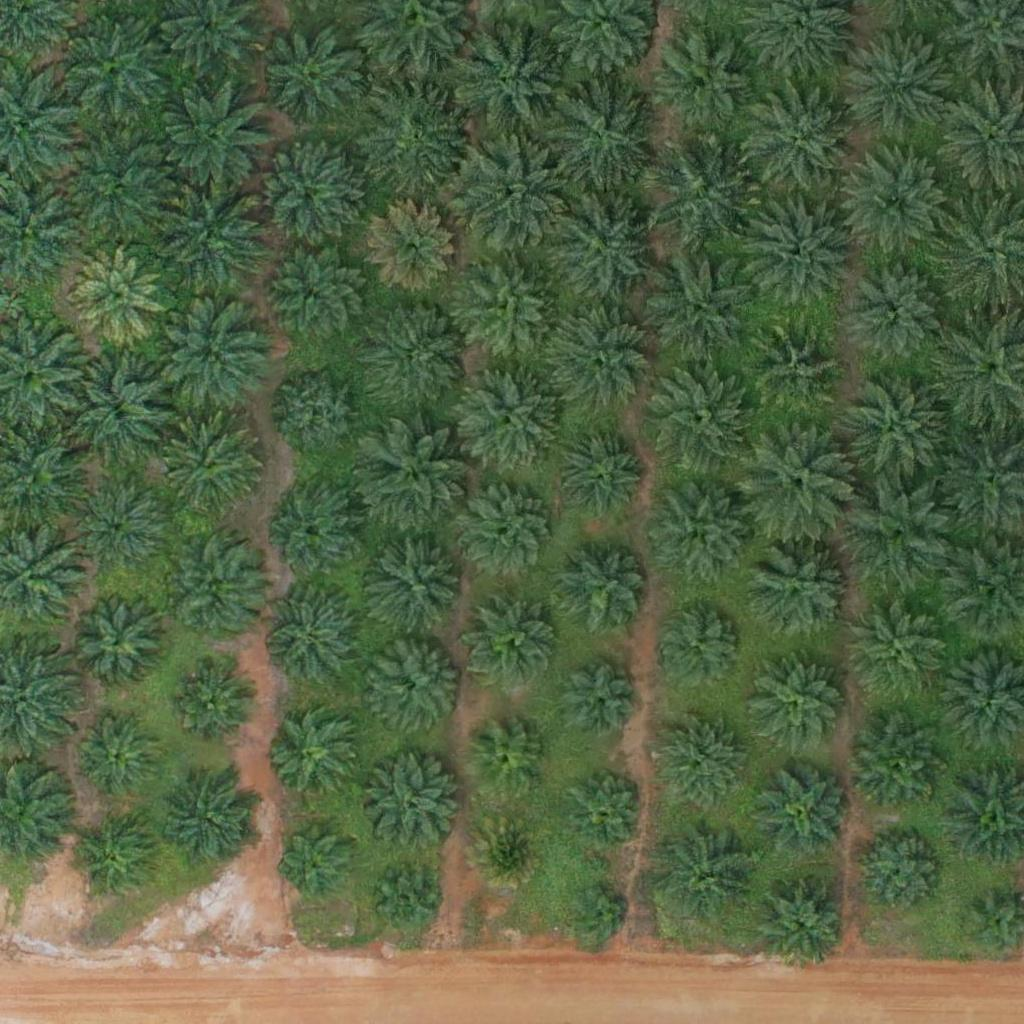Kelapa_Sawit: (59, 9, 172, 123), (65, 135, 178, 249), (157, 80, 270, 194), (845, 28, 958, 142), (154, 303, 267, 417), (452, 28, 565, 141), (455, 138, 568, 251), (748, 88, 861, 201), (841, 147, 954, 260), (838, 368, 951, 481), (547, 191, 660, 304), (155, 178, 268, 291), (63, 352, 175, 466), (361, 83, 473, 196), (543, 77, 655, 190), (644, 137, 756, 250), (844, 475, 956, 588), (742, 424, 854, 537), (641, 363, 753, 476), (741, 191, 853, 304), (645, 250, 757, 363), (363, 426, 475, 539), (259, 26, 359, 127), (656, 30, 756, 131), (851, 597, 951, 698), (850, 714, 950, 815), (749, 539, 849, 640), (748, 655, 848, 756), (652, 483, 752, 584), (549, 305, 649, 406), (460, 256, 560, 357), (267, 242, 367, 343), (369, 302, 469, 403), (162, 770, 262, 871), (259, 142, 359, 242), (751, 872, 851, 972), (657, 822, 757, 922), (459, 368, 559, 468), (457, 479, 557, 579), (161, 418, 261, 518), (165, 550, 265, 650), (367, 636, 467, 736), (363, 754, 463, 854), (752, 325, 840, 414), (72, 812, 160, 901), (856, 828, 944, 916), (470, 599, 558, 687), (367, 203, 455, 291), (70, 482, 158, 570), (72, 599, 160, 687), (373, 539, 461, 627), (174, 660, 262, 748), (75, 711, 163, 799), (761, 768, 848, 856), (655, 599, 742, 687), (657, 711, 744, 799), (554, 429, 641, 517), (560, 548, 647, 636), (853, 268, 940, 356), (74, 248, 161, 336), (275, 370, 362, 458), (276, 488, 363, 576), (267, 594, 354, 682), (273, 713, 360, 801), (470, 724, 545, 800), (560, 663, 635, 739), (567, 772, 642, 848), (471, 813, 546, 889), (369, 862, 444, 938), (279, 821, 354, 896), (569, 885, 631, 948)
